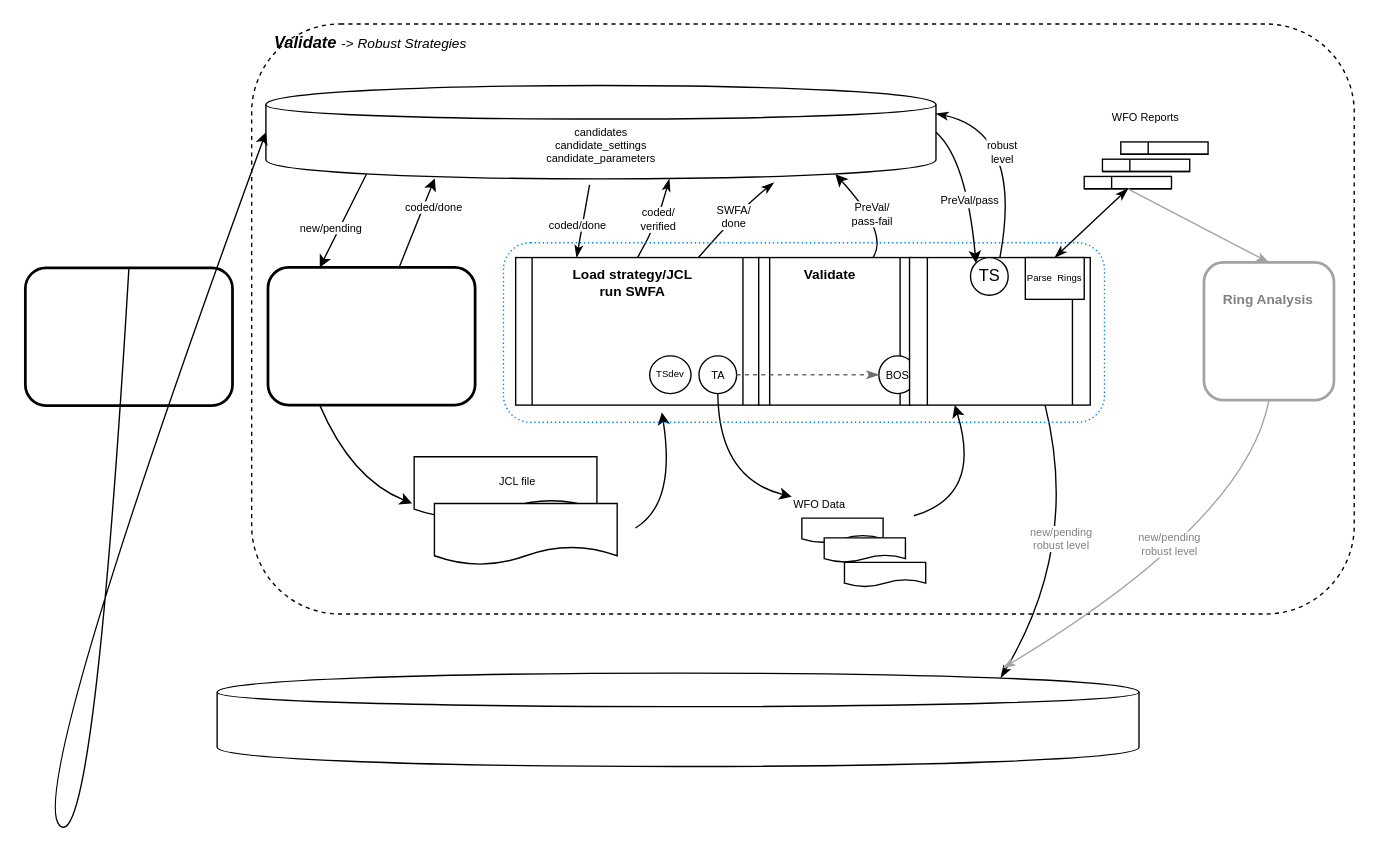
Image size: 1378x852. Some labels were removed from this diagram. Each missing label, with the box of its shape:
Cluster Analysis: (908, 256, 1090, 405)
filter_prototypes: (23, 266, 233, 406)
gen_candidate_swfa: (266, 265, 476, 406)
strategies: (216, 672, 1139, 767)
Strategy Code: (433, 502, 617, 565)
